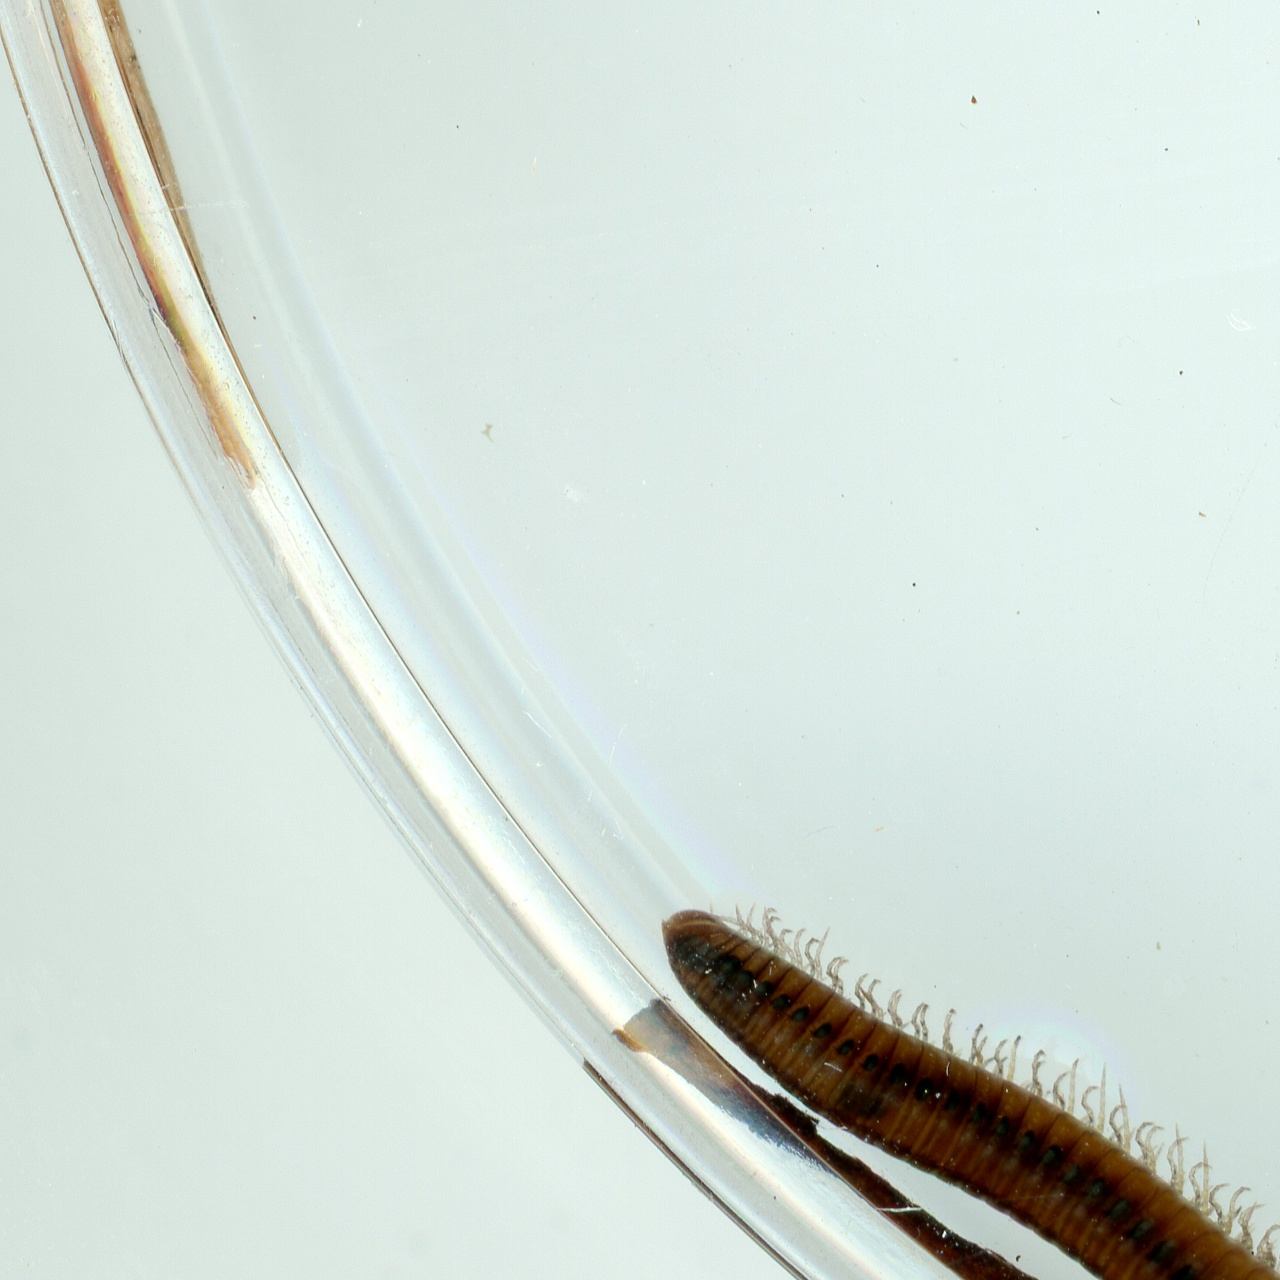arthropod: (519, 737, 1280, 1280)
